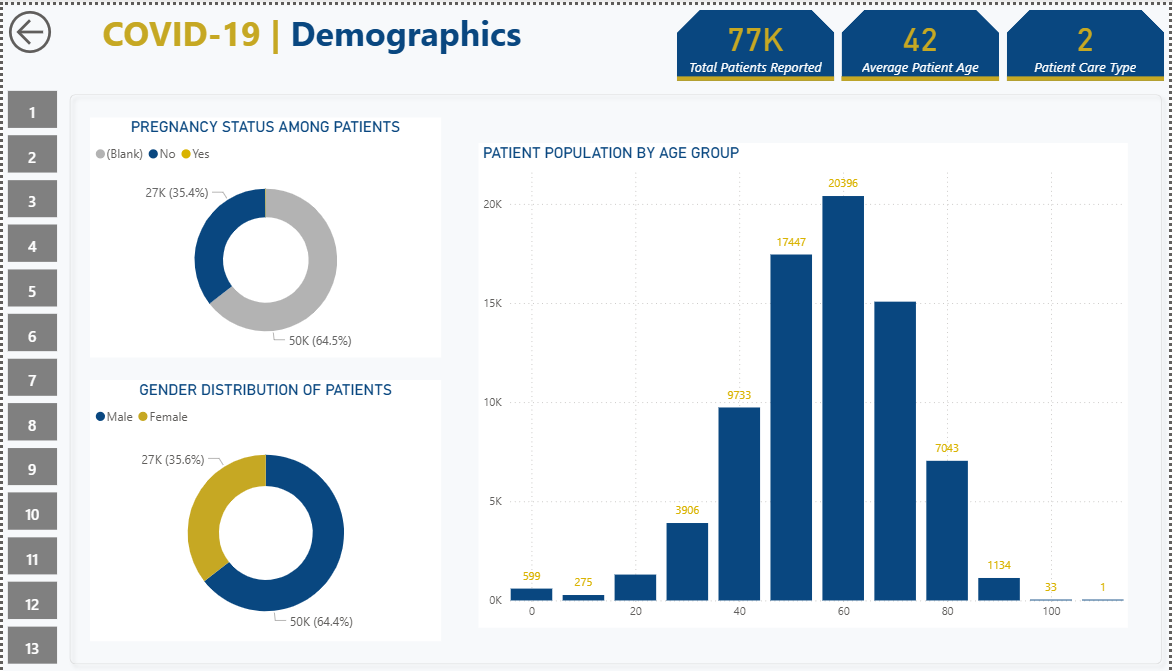

The dashboard page shown, as its layout file describes it:
{"tool":"powerbi","page":{"name":"Demographics","canvas":[1280,732],"ordinal":4},"visuals":[{"type":"shape","box":[64.2,88.9,1216.6,643.7],"z":0},{"type":"donutChart","title":"GENDER DISTRIBUTION OF PATIENTS","fields":{"Category":["Covid Data.SEX"],"Y":["Covid Data.NO. OF PATIENTS"]},"box":[95.5,411.6,385.2,286.4],"z":1000},{"type":"donutChart","title":"PREGNANCY STATUS AMONG PATIENTS","fields":{"Category":["Covid Data.PREGNANT"],"Y":["Covid Data.NO. OF PATIENTS"]},"box":[95.5,123.5,385.2,263.4],"z":2000},{"type":"textbox","box":[64.2,0,670,88.9],"z":3000},{"type":"advancedSlicerVisual","fields":{"Values":["Covid Data.MEDICAL_UNIT"]},"box":[0,88.9,64.2,643.7],"z":4000},{"type":"columnChart","title":"PATIENT POPULATION BY AGE GROUP","fields":{"Category":["Covid Data.AGE (bins)"],"Y":["Covid Data.NO. OF PATIENTS"]},"box":[521.9,151.5,712.8,531.7],"z":5000},{"type":"actionButton","box":[0,0,72.4,59.3],"z":6000},{"type":"cardVisual","fields":{"Data":["Covid Data.NO. OF PATIENTS","Avg(Covid Data.AGE)","Count(Covid Data.PATIENT_TYPE)"]},"box":[733.5,0,546.5,88.9],"z":7000}]}

Visuals, with their boxes in screenshot pixels (x1, y1, x2, y2), scaled from the page's 1280x732 canvas onto the 1173x671 screenshot:
shape: <bbox>59, 81, 1172, 670</bbox>
"GENDER DISTRIBUTION OF PATIENTS" donutChart: <bbox>88, 377, 441, 640</bbox>
"PREGNANCY STATUS AMONG PATIENTS" donutChart: <bbox>88, 113, 441, 355</bbox>
textbox: <bbox>59, 0, 673, 81</bbox>
advancedSlicerVisual - Covid Data.MEDICAL_UNIT: <bbox>0, 81, 59, 670</bbox>
"PATIENT POPULATION BY AGE GROUP" columnChart: <bbox>478, 139, 1131, 626</bbox>
actionButton: <bbox>0, 0, 66, 54</bbox>
cardVisual - Covid Data.NO. OF PATIENTS x Avg(Covid Data.AGE): <bbox>672, 0, 1172, 81</bbox>
